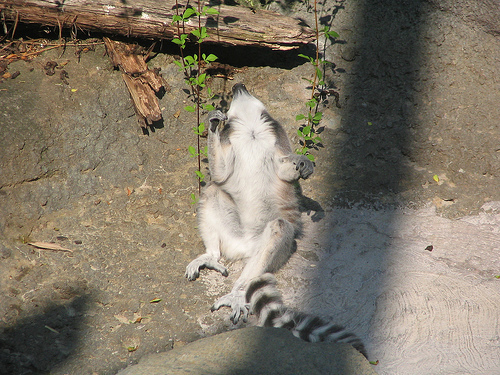cat: (183, 81, 369, 361)
